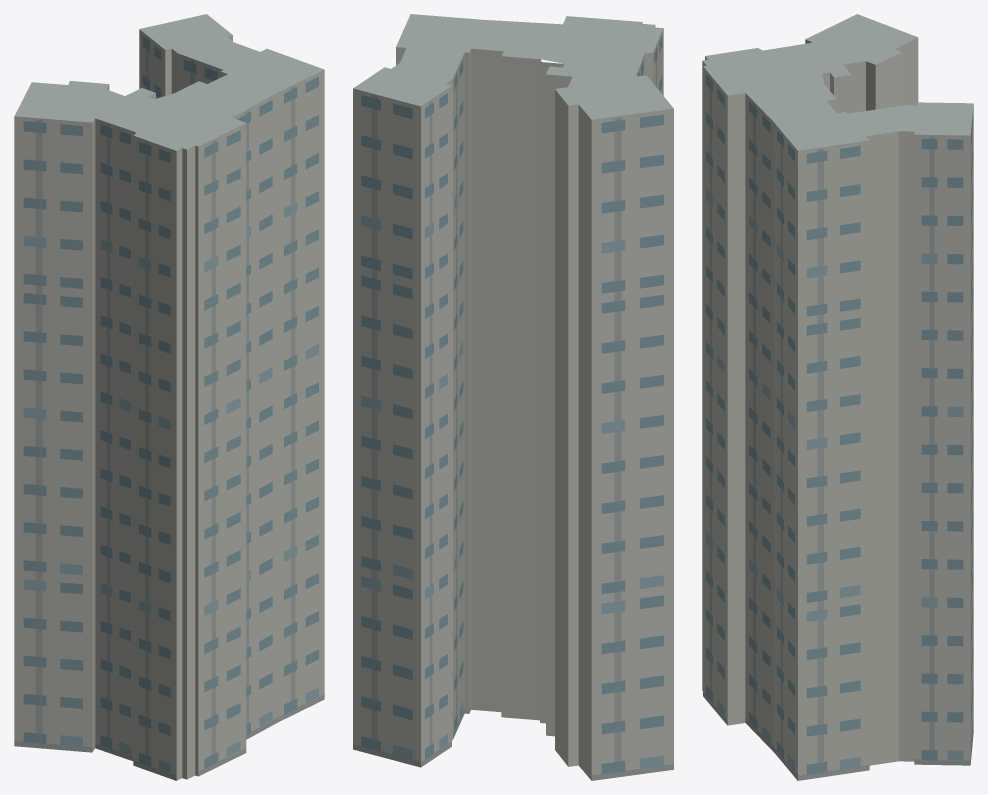
File: residential-32b04535-78cc-41e2-8a80-a894c9acf1c9.glb
3 views of the same model, side by side, from view 1: azimuth 30°, elevation 25°; view 2: azimuth 150°, elevation 25°; view 3: azimuth 270°, elevation 25° (orthographic). The views are drawn at different scales.
Visible parts, largest first — view 1: residential-32b04535-78cc-41e2-8a80-a894c9acf1c9.tmp; view 2: residential-32b04535-78cc-41e2-8a80-a894c9acf1c9.tmp; view 3: residential-32b04535-78cc-41e2-8a80-a894c9acf1c9.tmp.
Part boxes in pixels (left/top/right/bottom): residential-32b04535-78cc-41e2-8a80-a894c9acf1c9.tmp: left=14, top=14, right=324, bottom=780; residential-32b04535-78cc-41e2-8a80-a894c9acf1c9.tmp: left=353, top=14, right=673, bottom=780; residential-32b04535-78cc-41e2-8a80-a894c9acf1c9.tmp: left=702, top=14, right=973, bottom=780.
Bounding box in the file's own units: 45.21 × 97 × 37.84.
